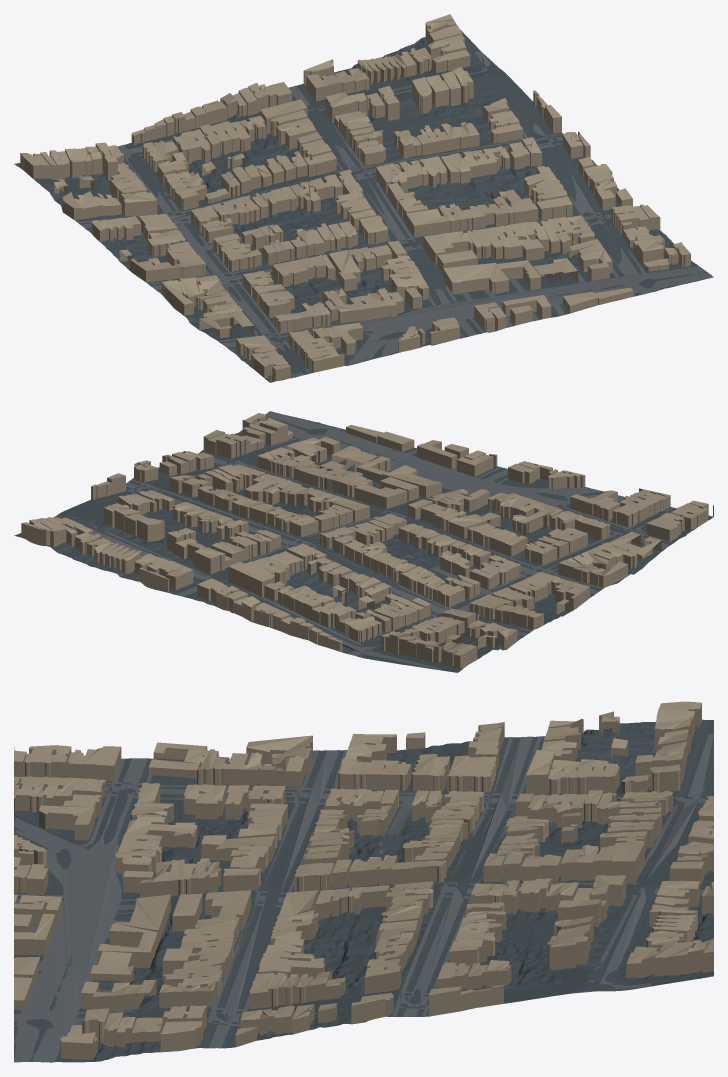
Rendered from epsg26910-1429-10894.lod0.glb.
3 views of the same model, one above another, from view 1: azimuth 30°, elevation 25°; view 2: azimuth 150°, elevation 25°; view 3: azimuth 270°, elevation 25° (orthographic). The views are drawn at different scales.
Visible parts, largest first — view 1: epsg26910-1429-10894-lod0; view 2: epsg26910-1429-10894-lod0; view 3: epsg26910-1429-10894-lod0.
Boxes of the visible parts, box(x1,y1,x2,y2) form: epsg26910-1429-10894-lod0: box(14, 14, 713, 382); epsg26910-1429-10894-lod0: box(14, 411, 713, 672); epsg26910-1429-10894-lod0: box(14, 701, 713, 1062).
Size of the model in its own units: 384 by 65.15 by 384.
